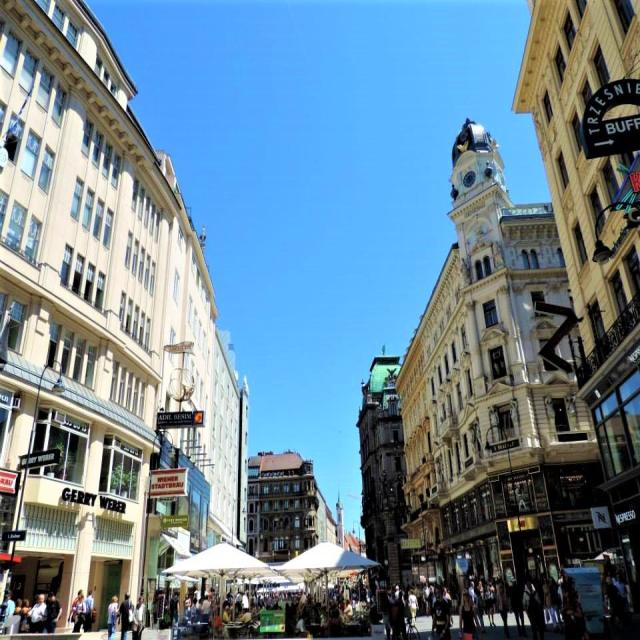body: (559, 583, 587, 639), (522, 578, 546, 639), (311, 598, 344, 640), (562, 575, 583, 639), (430, 584, 452, 639), (459, 592, 481, 640), (508, 580, 526, 638), (604, 575, 621, 629), (26, 592, 47, 635), (495, 584, 511, 639), (542, 579, 559, 629), (547, 575, 564, 625), (613, 573, 629, 624), (46, 590, 64, 634), (118, 591, 133, 639), (249, 588, 281, 610), (482, 583, 497, 629), (334, 581, 370, 600), (150, 588, 168, 626), (0, 591, 15, 635), (131, 596, 146, 639), (70, 593, 86, 633), (106, 595, 119, 640), (379, 591, 391, 639), (395, 590, 406, 636), (474, 588, 486, 630), (384, 585, 395, 630), (70, 587, 83, 625), (294, 612, 312, 639), (84, 588, 95, 632), (407, 587, 419, 625), (211, 614, 229, 639), (169, 591, 180, 629), (403, 577, 414, 615), (281, 587, 313, 600), (20, 598, 31, 634), (485, 578, 496, 612), (222, 604, 234, 633), (200, 595, 211, 625), (413, 582, 423, 614), (449, 582, 459, 614), (422, 581, 431, 616), (523, 575, 537, 596), (468, 580, 478, 608), (284, 598, 295, 623), (240, 591, 249, 621), (343, 598, 354, 622), (183, 591, 191, 622), (233, 591, 243, 615), (329, 584, 338, 610), (241, 607, 253, 626), (190, 596, 197, 625), (442, 586, 453, 604), (208, 586, 219, 604), (226, 588, 233, 614), (394, 582, 406, 596), (476, 580, 484, 599), (433, 579, 441, 598), (388, 590, 398, 604), (15, 597, 24, 609), (197, 596, 202, 612)
